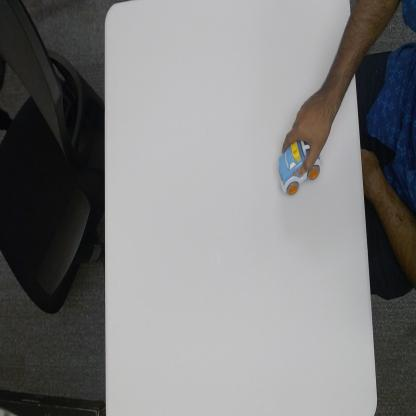Arm: (325, 15, 356, 104)
Car: (276, 140, 324, 196)
Hand: (282, 90, 336, 176)
